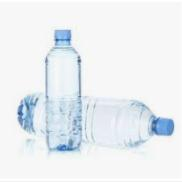plastic_bottle: (17, 86, 176, 149), (42, 26, 83, 153)
